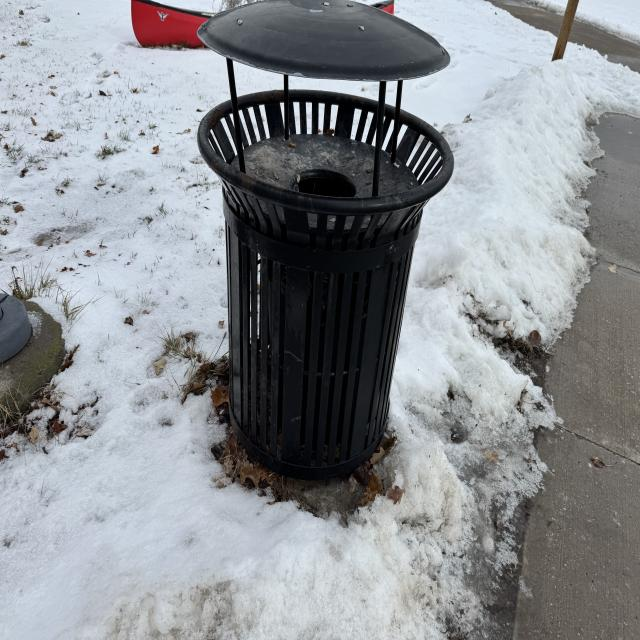Dustbin: (196, 0, 455, 470)
